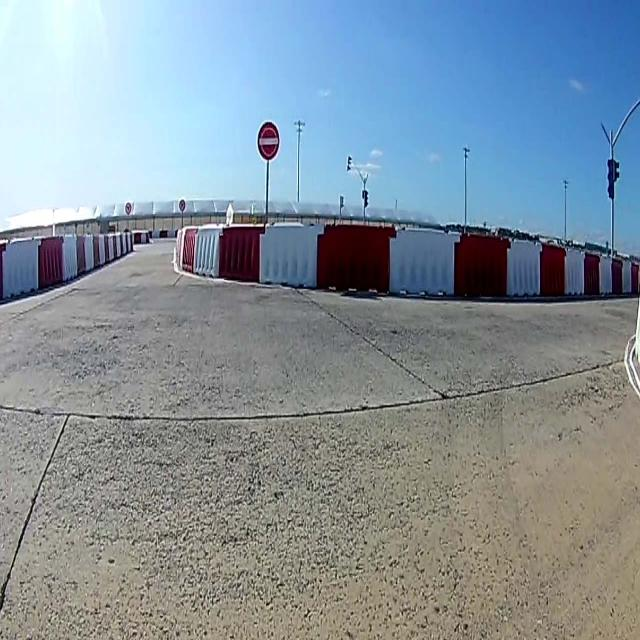girisyok: (260, 124, 278, 160)
